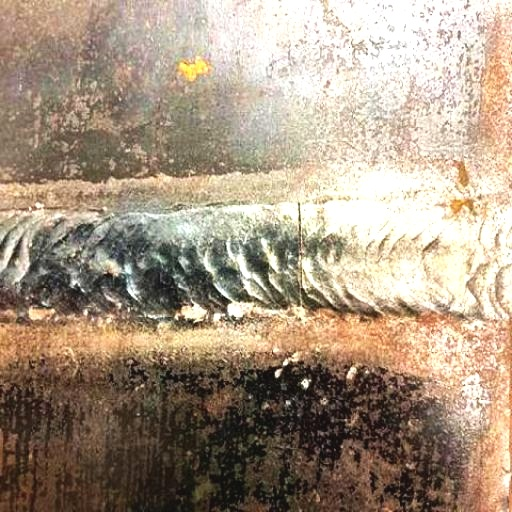crack: (280, 199, 319, 320)
